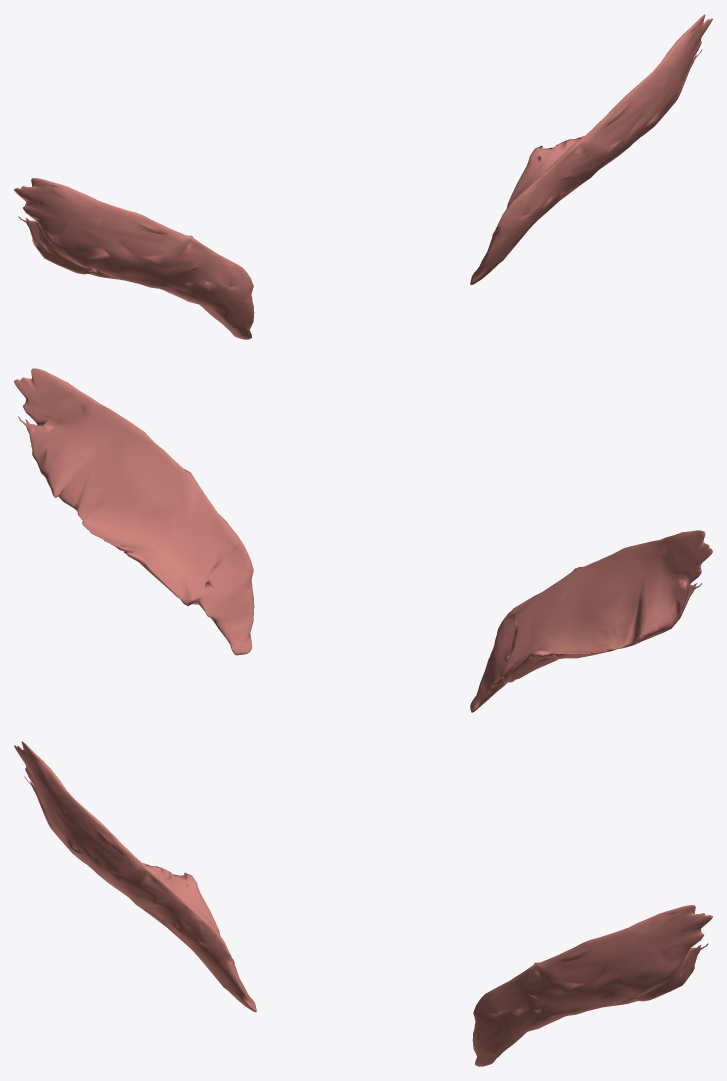
File: corrugator_lod1.glb
3 views of the same model, one above another, from view 1: azimuth 30°, elevation 25°; view 2: azimuth 150°, elevation 25°; view 3: azimuth 330°, elevation 25° (orthographic).
Parts seen in each view (by area): view 1: corrugator_R_lod1, corrugator_L_lod1; view 2: corrugator_L_lod1, corrugator_R_lod1; view 3: corrugator_L_lod1, corrugator_R_lod1.
Part boxes in pixels (x1=…): corrugator_R_lod1: x1=14, y1=178, x2=254, y2=339; corrugator_L_lod1: x1=470, y1=14, x2=712, y2=284; corrugator_L_lod1: x1=14, y1=368, x2=254, y2=655; corrugator_R_lod1: x1=470, y1=530, x2=712, y2=712; corrugator_L_lod1: x1=472, y1=905, x2=712, y2=1066; corrugator_R_lod1: x1=14, y1=741, x2=256, y2=1011.
Size of the model in its own units: 0.0638 by 0.0195 by 0.00835.
